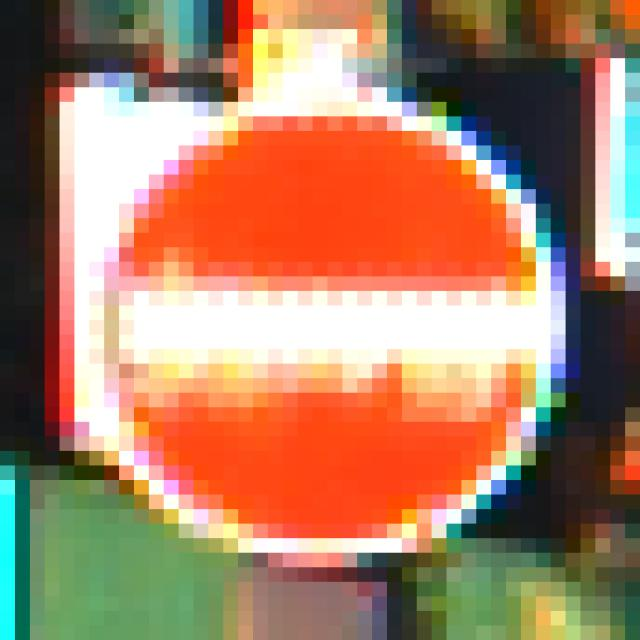No Entry: (76, 74, 567, 568)
